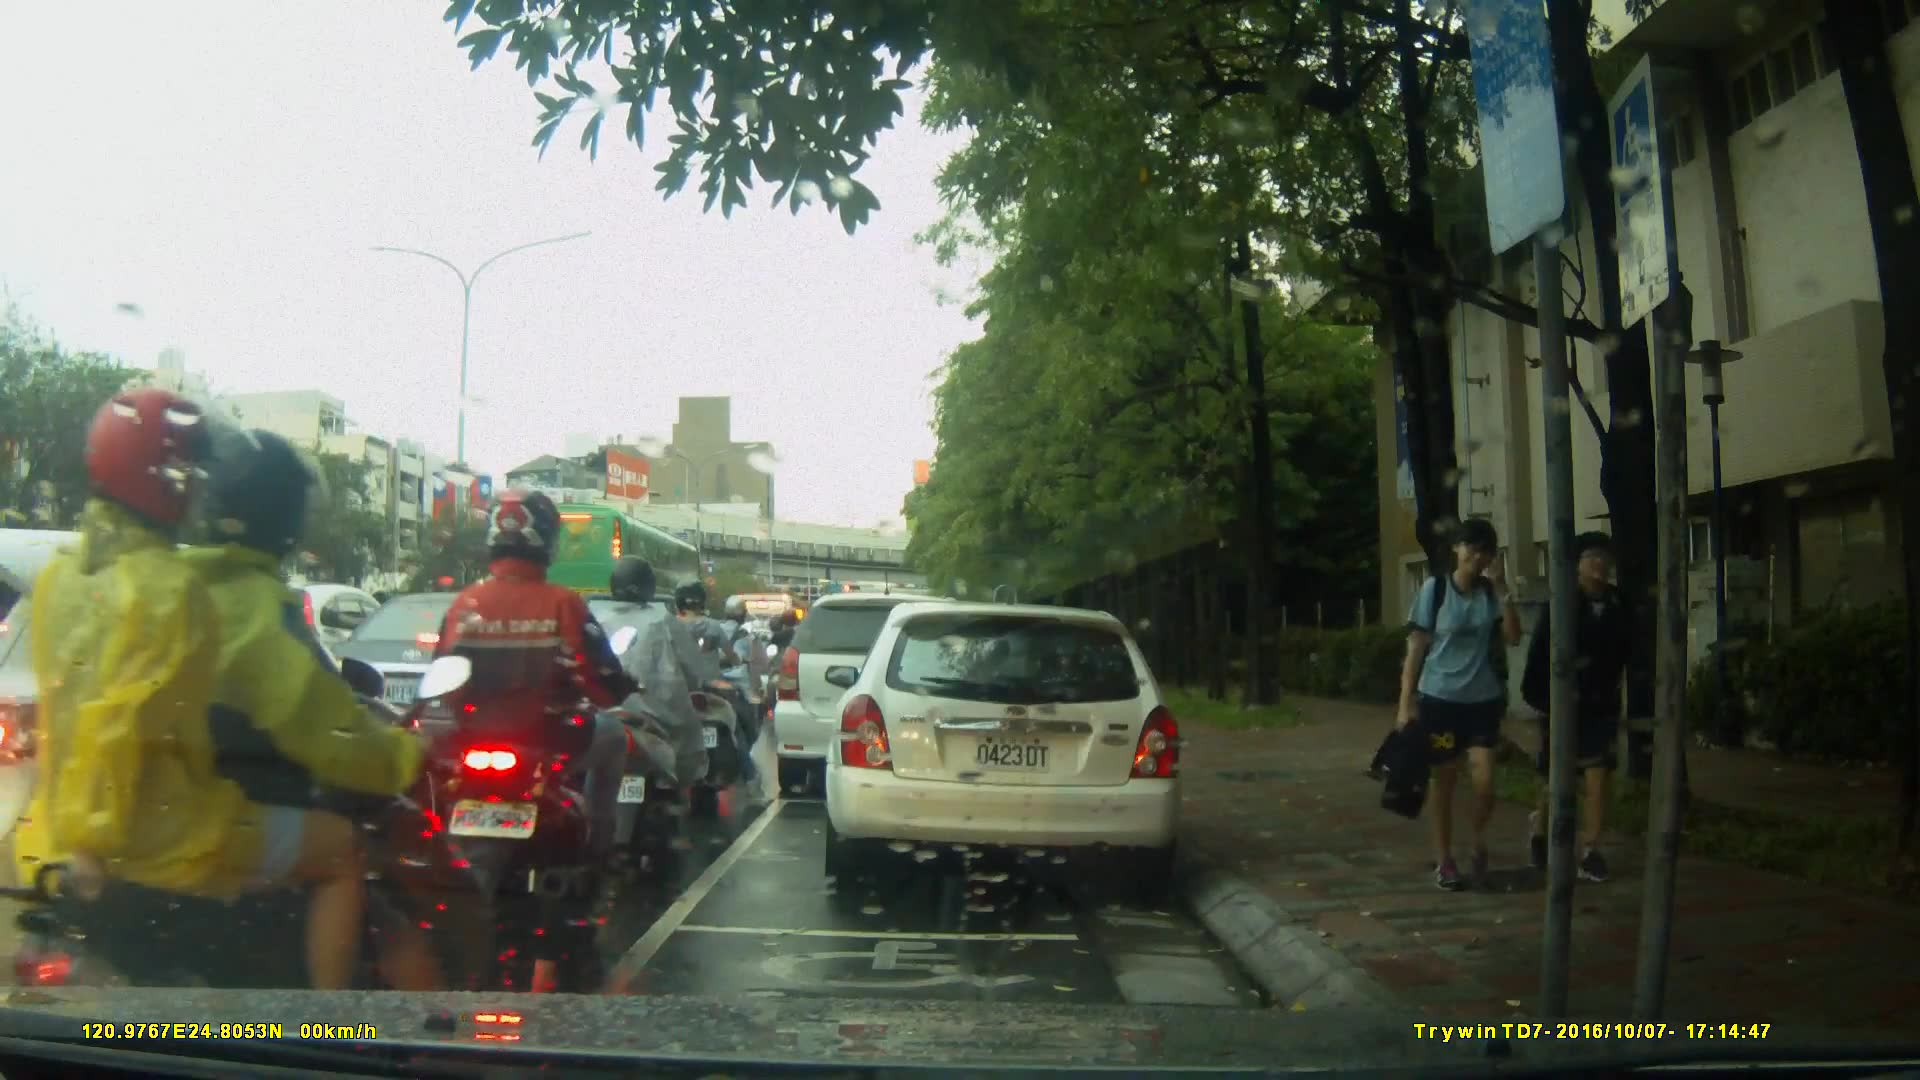pedestrian: (1364, 522, 1536, 897), (1522, 528, 1657, 894)
rider: (13, 380, 464, 1080), (425, 479, 645, 969), (577, 555, 737, 875), (658, 573, 740, 807), (706, 593, 779, 750), (767, 602, 811, 718)
vehicle: (1, 530, 456, 988), (831, 592, 1196, 897), (322, 590, 629, 776), (770, 590, 999, 803), (495, 502, 707, 636)
